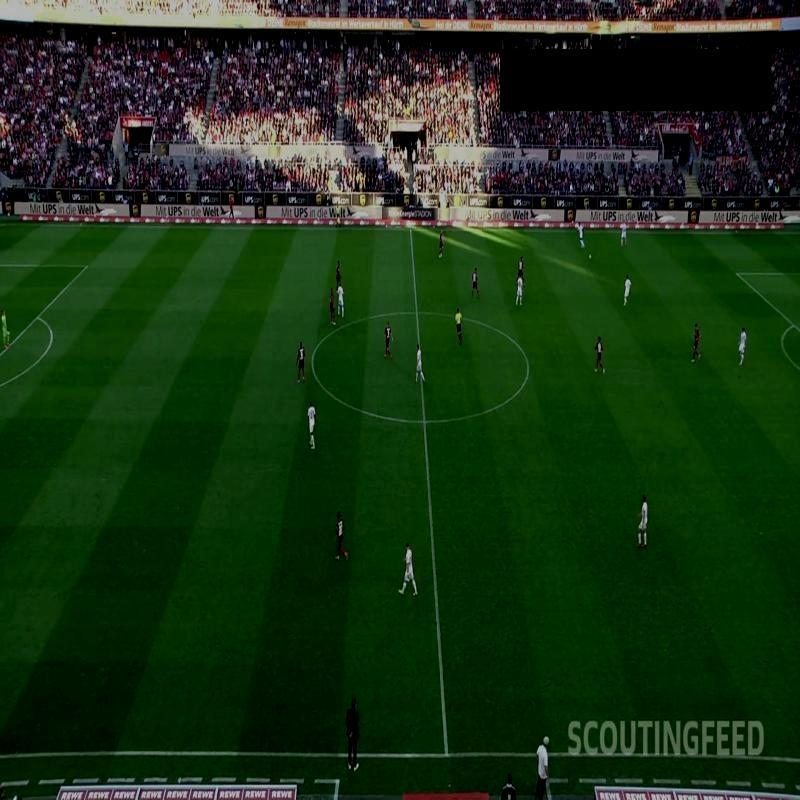10: (27, 311, 47, 326), (788, 320, 800, 330)
13: (404, 222, 418, 236)
14: (410, 305, 424, 318)
15: (417, 414, 431, 428)
16: (429, 741, 465, 768)
9: (78, 260, 94, 276), (730, 266, 744, 280)
c: (306, 350, 320, 371), (520, 359, 534, 373)
